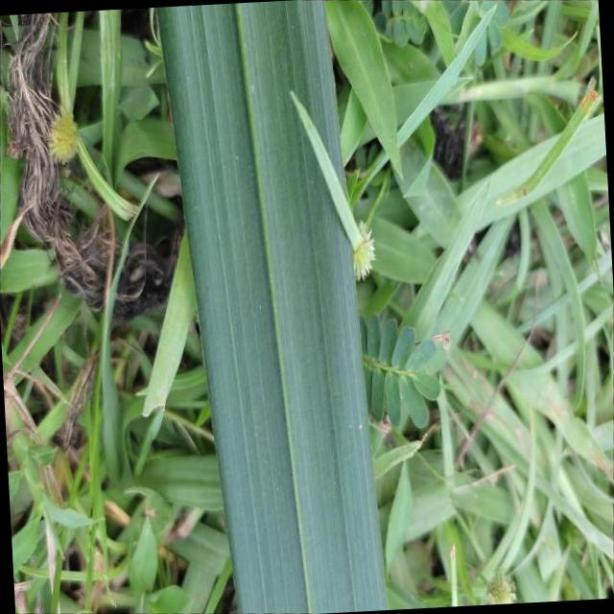Healthy: (157, 0, 390, 614)
